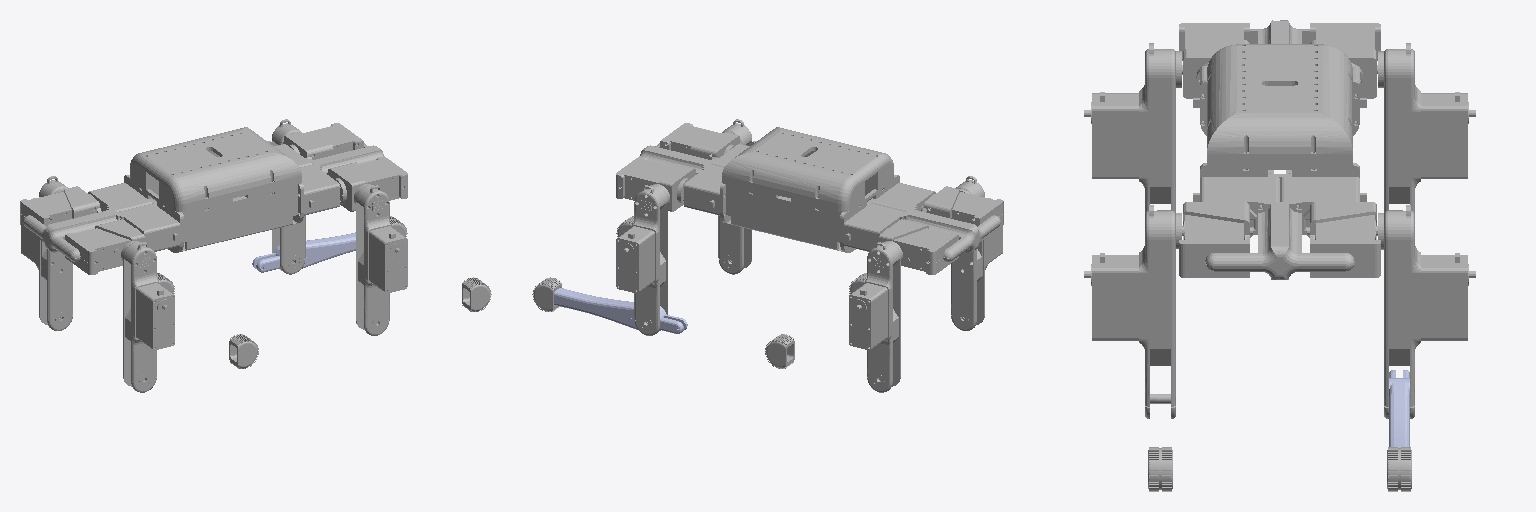
The robot description file, URDF, robot "ASEEL":
<?xml version="1.0" encoding="utf-8"?>
<robot
  name="ASEEL">
  <link
    name="base_link">
    <inertial>
      <origin
        xyz="0.000117800965739838 3.60395530274273E-09 0.00533195829127769"
        rpy="0 0 0" />
      <mass
        value="0.90458187696356" />
      <inertia
        ixx="0.000933635377152713"
        ixy="-2.59061192096811E-11"
        ixz="6.47739534078497E-06"
        iyy="0.00144500934952677"
        iyz="-5.95495047173037E-10"
        izz="0.00214373311610833" />
    </inertial>
    <visual>
      <origin
        xyz="0 0 0"
        rpy="0 0 0" />
      <geometry>
        <mesh
          filename="package://ASEEL/meshes/base_link.STL" />
      </geometry>
      <material
        name="">
        <color
          rgba="0.752941176470588 0.752941176470588 0.752941176470588 1" />
      </material>
    </visual>
    <collision>
      <origin
        xyz="0 0 0"
        rpy="0 0 0" />
      <geometry>
        <mesh
          filename="package://ASEEL/meshes/base_link.STL" />
      </geometry>
    </collision>
  </link>
  <link
    name="FR_shoulder">
    <inertial>
      <origin
        xyz="-0.000970287928558175 1.43784454992407E-06 -0.0177365778335415"
        rpy="0 0 0" />
      <mass
        value="0.126030436122441" />
      <inertia
        ixx="4.59863338380217E-05"
        ixy="7.84858176738146E-09"
        ixz="-1.13222032788304E-06"
        iyy="6.27279144073342E-05"
        iyz="3.40708639959301E-09"
        izz="3.90648826225906E-05" />
    </inertial>
    <visual>
      <origin
        xyz="0 0 0"
        rpy="0 0 0" />
      <geometry>
        <mesh
          filename="package://ASEEL/meshes/FR_shoulder.STL" />
      </geometry>
      <material
        name="">
        <color
          rgba="0.752941176470588 0.752941176470588 0.752941176470588 1" />
      </material>
    </visual>
    <collision>
      <origin
        xyz="0 0 0"
        rpy="0 0 0" />
      <geometry>
        <mesh
          filename="package://ASEEL/meshes/FR_shoulder.STL" />
      </geometry>
    </collision>
  </link>
  <joint
    name="FR_base_shoulder_joint"
    type="revolute">
    <origin
      xyz="0.1549 -0.0530000535776146 0"
      rpy="1.5707963267949 0 -1.5707963267949" />
    <parent
      link="base_link" />
    <child
      link="FR_shoulder" />
    <axis
      xyz="0 0 1" />
    <limit
      lower="-2.0944"
      upper="2.0944"
      effort="0"
      velocity="0" />
  </joint>
  <link
    name="FR_hip">
    <inertial>
      <origin
        xyz="0.00077187383719951 -0.0606076511327016 0.0155152005506251"
        rpy="0 0 0" />
      <mass
        value="0.182869560751865" />
      <inertia
        ixx="0.0002523448939588"
        ixy="-2.87807763554777E-06"
        ixz="-3.39518871085523E-08"
        iyy="3.83064999571908E-05"
        iyz="-1.48134860485744E-07"
        izz="0.000242515907395856" />
    </inertial>
    <visual>
      <origin
        xyz="0 0 0"
        rpy="0 0 0" />
      <geometry>
        <mesh
          filename="package://ASEEL/meshes/FR_hip.STL" />
      </geometry>
      <material
        name="">
        <color
          rgba="0.752941176470588 0.752941176470588 0.752941176470588 1" />
      </material>
    </visual>
    <collision>
      <origin
        xyz="0 0 0"
        rpy="0 0 0" />
      <geometry>
        <mesh
          filename="package://ASEEL/meshes/FR_hip.STL" />
      </geometry>
    </collision>
  </link>
  <joint
    name="FR_shoulder_hip_joint"
    type="revolute">
    <origin
      xyz="0.0439 0 0"
      rpy="0 1.5707963267949 0" />
    <parent
      link="FR_shoulder" />
    <child
      link="FR_hip" />
    <axis
      xyz="0 0 1" />
    <limit
      lower="-2.0944"
      upper="2.0944"
      effort="0"
      velocity="0" />
  </joint>
  <link
    name="FR_leg">
    <inertial>
      <origin
        xyz="1.43730509993834E-07 -0.0562168566562656 -3.97795066264806E-06"
        rpy="0 0 0" />
      <mass
        value="0.0582935395770901" />
      <inertia
        ixx="0.000152157231305915"
        ixy="-8.88216209861702E-10"
        ixz="-4.37278190964717E-11"
        iyy="4.04284990910996E-06"
        iyz="2.21081132430397E-08"
        izz="0.000153478811159089" />
    </inertial>
    <visual>
      <origin
        xyz="0 0 0"
        rpy="0 0 0" />
      <geometry>
        <mesh
          filename="package://ASEEL/meshes/FR_leg.STL" />
      </geometry>
      <material
        name="">
        <color
          rgba="0.792156862745098 0.819607843137255 0.933333333333333 1" />
      </material>
    </visual>
    <collision>
      <origin
        xyz="0 0 0"
        rpy="0 0 0" />
      <geometry>
        <mesh
          filename="package://ASEEL/meshes/FR_leg.STL" />
      </geometry>
    </collision>
  </link>
  <joint
    name="FR_hip_leg_joint"
    type="revolute">
    <origin
      xyz="0 -0.15 0"
      rpy="0 0 0" />
    <parent
      link="FR_hip" />
    <child
      link="FR_leg" />
    <axis
      xyz="0 0 1" />
    <limit
      lower="0.5236"
      upper="2.618"
      effort="0"
      velocity="0" />
  </joint>
  <link
    name="FR_toe">
    <inertial>
      <origin
        xyz="-0.000596190546970826 0.0120407485206023 3.84783939433309E-09"
        rpy="0 0 0" />
      <mass
        value="0.00928636527042137" />
      <inertia
        ixx="9.48247904111129E-07"
        ixy="3.28936864772133E-09"
        ixz="1.92578922406109E-11"
        iyy="1.56455944284968E-06"
        iyz="-3.1633142839233E-13"
        izz="1.66150195785123E-06" />
    </inertial>
    <visual>
      <origin
        xyz="0 0 0"
        rpy="0 0 0" />
      <geometry>
        <mesh
          filename="package://ASEEL/meshes/FR_toe.STL" />
      </geometry>
      <material
        name="">
        <color
          rgba="0.752941176470588 0.752941176470588 0.752941176470588 1" />
      </material>
    </visual>
    <collision>
      <origin
        xyz="0 0 0"
        rpy="0 0 0" />
      <geometry>
        <mesh
          filename="package://ASEEL/meshes/FR_toe.STL" />
      </geometry>
    </collision>
  </link>
  <joint
    name="FR_leg_toe_joint"
    type="fixed">
    <origin
      xyz="0 -0.15 0"
      rpy="0 0 0" />
    <parent
      link="FR_leg" />
    <child
      link="FR_toe" />
    <axis
      xyz="0 0 0" />
  </joint>
  <link
    name="BR_shoulder">
    <inertial>
      <origin
        xyz="-0.000970287928558189 -1.43784454991467E-06 0.0177365778335414"
        rpy="0 0 0" />
      <mass
        value="0.126030436122441" />
      <inertia
        ixx="4.59863338380217E-05"
        ixy="-7.84858176737931E-09"
        ixz="1.13222032788304E-06"
        iyy="6.27279144073342E-05"
        iyz="3.40708639959264E-09"
        izz="3.90648826225906E-05" />
    </inertial>
    <visual>
      <origin
        xyz="0 0 0"
        rpy="0 0 0" />
      <geometry>
        <mesh
          filename="package://ASEEL/meshes/BR_shoulder.STL" />
      </geometry>
      <material
        name="">
        <color
          rgba="0.752941176470588 0.752941176470588 0.752941176470588 1" />
      </material>
    </visual>
    <collision>
      <origin
        xyz="0 0 0"
        rpy="0 0 0" />
      <geometry>
        <mesh
          filename="package://ASEEL/meshes/BR_shoulder.STL" />
      </geometry>
    </collision>
  </link>
  <joint
    name="BR_base_shoulder_joint"
    type="revolute">
    <origin
      xyz="-0.1549 -0.053 0"
      rpy="1.5708 0 -1.5708" />
    <parent
      link="base_link" />
    <child
      link="BR_shoulder" />
    <axis
      xyz="0 0 -1" />
    <limit
      lower="-2.0944"
      upper="2.0944"
      effort="0"
      velocity="0" />
  </joint>
  <link
    name="BR_hip">
    <inertial>
      <origin
        xyz="0.000771873837199455 -0.0606076511327016 0.0155152005506251"
        rpy="0 0 0" />
      <mass
        value="0.182869560751866" />
      <inertia
        ixx="0.0002523448939588"
        ixy="-2.87807763554778E-06"
        ixz="-3.39518871085365E-08"
        iyy="3.83064999571909E-05"
        iyz="-1.4813486048576E-07"
        izz="0.000242515907395856" />
    </inertial>
    <visual>
      <origin
        xyz="0 0 0"
        rpy="0 0 0" />
      <geometry>
        <mesh
          filename="package://ASEEL/meshes/BR_hip.STL" />
      </geometry>
      <material
        name="">
        <color
          rgba="0.752941176470588 0.752941176470588 0.752941176470588 1" />
      </material>
    </visual>
    <collision>
      <origin
        xyz="0 0 0"
        rpy="0 0 0" />
      <geometry>
        <mesh
          filename="package://ASEEL/meshes/BR_hip.STL" />
      </geometry>
    </collision>
  </link>
  <joint
    name="BR_shoulder_hip_joint"
    type="revolute">
    <origin
      xyz="0.0439 0 0"
      rpy="0 1.5707963267949 0" />
    <parent
      link="BR_shoulder" />
    <child
      link="BR_hip" />
    <axis
      xyz="0 0 1" />
    <limit
      lower="-2.0944"
      upper="2.0944"
      effort="0"
      velocity="0" />
  </joint>
  <link
    name="BR_leg">
    <inertial>
      <origin
        xyz="1.43730509993834E-07 -0.0562168566562654 -3.97795066264806E-06"
        rpy="0 0 0" />
      <mass
        value="0.0582935395770903" />
      <inertia
        ixx="0.000152157231305894"
        ixy="-8.88216827581747E-10"
        ixz="-4.37278191180572E-11"
        iyy="4.04284990775868E-06"
        iyz="2.21081132430353E-08"
        izz="0.000153478811157716" />
    </inertial>
    <visual>
      <origin
        xyz="0 0 0"
        rpy="0 0 0" />
      <geometry>
        <mesh
          filename="package://ASEEL/meshes/BR_leg.STL" />
      </geometry>
      <material
        name="">
        <color
          rgba="0.792156862745098 0.819607843137255 0.933333333333333 1" />
      </material>
    </visual>
    <collision>
      <origin
        xyz="0 0 0"
        rpy="0 0 0" />
      <geometry>
        <mesh
          filename="package://ASEEL/meshes/BR_leg.STL" />
      </geometry>
    </collision>
  </link>
  <joint
    name="BR_hip_leg_joint"
    type="revolute">
    <origin
      xyz="0 -0.15 0"
      rpy="0 0 0" />
    <parent
      link="BR_hip" />
    <child
      link="BR_leg" />
    <axis
      xyz="0 0 1" />
    <limit
      lower="0.5236"
      upper="2.618"
      effort="0"
      velocity="0" />
  </joint>
  <link
    name="BR_toe">
    <inertial>
      <origin
        xyz="-0.0005961905469688 0.0120407485206022 3.84783943596645E-09"
        rpy="0 0 0" />
      <mass
        value="0.00928636527042151" />
      <inertia
        ixx="9.48247904111135E-07"
        ixy="3.2893686477132E-09"
        ixz="1.92578922435809E-11"
        iyy="1.56455944284962E-06"
        iyz="-3.16331431284772E-13"
        izz="1.66150195785117E-06" />
    </inertial>
    <visual>
      <origin
        xyz="0 0 0"
        rpy="0 0 0" />
      <geometry>
        <mesh
          filename="package://ASEEL/meshes/BR_toe.STL" />
      </geometry>
      <material
        name="">
        <color
          rgba="0.752941176470588 0.752941176470588 0.752941176470588 1" />
      </material>
    </visual>
    <collision>
      <origin
        xyz="0 0 0"
        rpy="0 0 0" />
      <geometry>
        <mesh
          filename="package://ASEEL/meshes/BR_toe.STL" />
      </geometry>
    </collision>
  </link>
  <joint
    name="BR_leg_toe"
    type="fixed">
    <origin
      xyz="0 -0.150000000000034 0"
      rpy="0 0 0" />
    <parent
      link="BR_leg" />
    <child
      link="BR_toe" />
    <axis
      xyz="0 0 0" />
  </joint>
  <link
    name="FL_shoulder">
    <inertial>
      <origin
        xyz="-0.000970287928558175 -1.43784454991988E-06 0.0177365778335414"
        rpy="0 0 0" />
      <mass
        value="0.126030436122441" />
      <inertia
        ixx="4.59863338380217E-05"
        ixy="-7.84858176737605E-09"
        ixz="1.13222032788304E-06"
        iyy="6.27279144073342E-05"
        iyz="3.40708639959327E-09"
        izz="3.90648826225906E-05" />
    </inertial>
    <visual>
      <origin
        xyz="0 0 0"
        rpy="0 0 0" />
      <geometry>
        <mesh
          filename="package://ASEEL/meshes/FL_shoulder.STL" />
      </geometry>
      <material
        name="">
        <color
          rgba="0.752941176470588 0.752941176470588 0.752941176470588 1" />
      </material>
    </visual>
    <collision>
      <origin
        xyz="0 0 0"
        rpy="0 0 0" />
      <geometry>
        <mesh
          filename="package://ASEEL/meshes/FL_shoulder.STL" />
      </geometry>
    </collision>
  </link>
  <joint
    name="FL_base_shoulder_joint"
    type="revolute">
    <origin
      xyz="0.1549 0.053 0"
      rpy="1.5708 0 1.5708" />
    <parent
      link="base_link" />
    <child
      link="FL_shoulder" />
    <axis
      xyz="0 0 1" />
    <limit
      lower="-2.0944"
      upper="2.0944"
      effort="0"
      velocity="0" />
  </joint>
  <link
    name="FL_hip">
    <inertial>
      <origin
        xyz="-0.000769768516371561 -0.0606084345817354 0.0155158302503211"
        rpy="0 0 0" />
      <mass
        value="0.182862361189565" />
      <inertia
        ixx="0.000252344247771645"
        ixy="2.87315613778536E-06"
        ixz="4.09648863235255E-08"
        iyy="3.83073180128586E-05"
        iyz="-1.4816800661719E-07"
        izz="0.000242516393871208" />
    </inertial>
    <visual>
      <origin
        xyz="0 0 0"
        rpy="0 0 0" />
      <geometry>
        <mesh
          filename="package://ASEEL/meshes/FL_hip.STL" />
      </geometry>
      <material
        name="">
        <color
          rgba="0.752941176470588 0.752941176470588 0.752941176470588 1" />
      </material>
    </visual>
    <collision>
      <origin
        xyz="0 0 0"
        rpy="0 0 0" />
      <geometry>
        <mesh
          filename="package://ASEEL/meshes/FL_hip.STL" />
      </geometry>
    </collision>
  </link>
  <joint
    name="FL_shoulder_hip_joint"
    type="revolute">
    <origin
      xyz="0.0439 0 0"
      rpy="0 1.5707963267949 0" />
    <parent
      link="FL_shoulder" />
    <child
      link="FL_hip" />
    <axis
      xyz="0 0 1" />
    <limit
      lower="-2.0944"
      upper="2.0944"
      effort="0"
      velocity="0" />
  </joint>
  <link
    name="FL_leg">
    <inertial>
      <origin
        xyz="1.43730509938322E-07 -0.0562168566562656 -3.97795066263418E-06"
        rpy="0 0 0" />
      <mass
        value="0.0582935395770901" />
      <inertia
        ixx="0.000152157231305841"
        ixy="-8.88216415399482E-10"
        ixz="-4.37278191441204E-11"
        iyy="4.04284990940124E-06"
        iyz="2.21081132429994E-08"
        izz="0.000153478811159306" />
    </inertial>
    <visual>
      <origin
        xyz="0 0 0"
        rpy="0 0 0" />
      <geometry>
        <mesh
          filename="package://ASEEL/meshes/FL_leg.STL" />
      </geometry>
      <material
        name="">
        <color
          rgba="0.792156862745098 0.819607843137255 0.933333333333333 1" />
      </material>
    </visual>
    <collision>
      <origin
        xyz="0 0 0"
        rpy="0 0 0" />
      <geometry>
        <mesh
          filename="package://ASEEL/meshes/FL_leg.STL" />
      </geometry>
    </collision>
  </link>
  <joint
    name="FL_hip_leg_joint"
    type="revolute">
    <origin
      xyz="0 -0.15 0"
      rpy="3.14159265358979 0 3.14159265358979" />
    <parent
      link="FL_hip" />
    <child
      link="FL_leg" />
    <axis
      xyz="0 0 1" />
    <limit
      lower="0.5236"
      upper="2.618"
      effort="0"
      velocity="0" />
  </joint>
  <link
    name="FL_toe">
    <inertial>
      <origin
        xyz="-0.000596190546969383 0.0120407485206024 3.84783942208866E-09"
        rpy="0 0 0" />
      <mass
        value="0.00928636527042142" />
      <inertia
        ixx="9.48247904111061E-07"
        ixy="3.28936864632139E-09"
        ixz="1.92578922390329E-11"
        iyy="1.56455944284956E-06"
        iyz="-3.16331429548457E-13"
        izz="1.66150195785103E-06" />
    </inertial>
    <visual>
      <origin
        xyz="0 0 0"
        rpy="0 0 0" />
      <geometry>
        <mesh
          filename="package://ASEEL/meshes/FL_toe.STL" />
      </geometry>
      <material
        name="">
        <color
          rgba="0.752941176470588 0.752941176470588 0.752941176470588 1" />
      </material>
    </visual>
    <collision>
      <origin
        xyz="0 0 0"
        rpy="0 0 0" />
      <geometry>
        <mesh
          filename="package://ASEEL/meshes/FL_toe.STL" />
      </geometry>
    </collision>
  </link>
  <joint
    name="FL_leg_toe_joint"
    type="fixed">
    <origin
      xyz="0 -0.149999999999966 0"
      rpy="0 0 0" />
    <parent
      link="FL_leg" />
    <child
      link="FL_toe" />
    <axis
      xyz="0 0 0" />
  </joint>
  <link
    name="BL_shoulder">
    <inertial>
      <origin
        xyz="-0.000970287928558182 1.43784454991182E-06 -0.0177365778335414"
        rpy="0 0 0" />
      <mass
        value="0.126030436122441" />
      <inertia
        ixx="4.59863338380217E-05"
        ixy="7.84858176738043E-09"
        ixz="-1.13222032788304E-06"
        iyy="6.27279144073342E-05"
        iyz="3.40708639959423E-09"
        izz="3.90648826225906E-05" />
    </inertial>
    <visual>
      <origin
        xyz="0 0 0"
        rpy="0 0 0" />
      <geometry>
        <mesh
          filename="package://ASEEL/meshes/BL_shoulder.STL" />
      </geometry>
      <material
        name="">
        <color
          rgba="0.752941176470588 0.752941176470588 0.752941176470588 1" />
      </material>
    </visual>
    <collision>
      <origin
        xyz="0 0 0"
        rpy="0 0 0" />
      <geometry>
        <mesh
          filename="package://ASEEL/meshes/BL_shoulder.STL" />
      </geometry>
    </collision>
  </link>
  <joint
    name="BL_base_shoulder_joint"
    type="revolute">
    <origin
      xyz="-0.1549 0.0530000535776146 0"
      rpy="1.5707963267949 0 1.5707963267949" />
    <parent
      link="base_link" />
    <child
      link="BL_shoulder" />
    <axis
      xyz="0 0 -1" />
    <limit
      lower="-2.0944"
      upper="2.0944"
      effort="0"
      velocity="0" />
  </joint>
  <link
    name="BL_hip">
    <inertial>
      <origin
        xyz="-0.000769768516371588 -0.0606084345817354 0.0155158302503211"
        rpy="0 0 0" />
      <mass
        value="0.182862361189565" />
      <inertia
        ixx="0.000252344247771645"
        ixy="2.87315613778526E-06"
        ixz="4.09648863235187E-08"
        iyy="3.83073180128585E-05"
        iyz="-1.48168006617098E-07"
        izz="0.000242516393871207" />
    </inertial>
    <visual>
      <origin
        xyz="0 0 0"
        rpy="0 0 0" />
      <geometry>
        <mesh
          filename="package://ASEEL/meshes/BL_hip.STL" />
      </geometry>
      <material
        name="">
        <color
          rgba="0.752941176470588 0.752941176470588 0.752941176470588 1" />
      </material>
    </visual>
    <collision>
      <origin
        xyz="0 0 0"
        rpy="0 0 0" />
      <geometry>
        <mesh
          filename="package://ASEEL/meshes/BL_hip.STL" />
      </geometry>
    </collision>
  </link>
  <joint
    name="BL_shoulder_hip_joint"
    type="revolute">
    <origin
      xyz="0.0439 0 0"
      rpy="0 1.5707963267949 0" />
    <parent
      link="BL_shoulder" />
    <child
      link="BL_hip" />
    <axis
      xyz="0 0 1" />
    <limit
      lower="-2.0944"
      upper="2.0944"
      effort="0"
      velocity="0" />
  </joint>
  <link
    name="BL_leg">
    <inertial>
      <origin
        xyz="1.43730510104856E-07 -0.0562168566562657 -3.97795066264806E-06"
        rpy="0 0 0" />
      <mass
        value="0.05829353957709" />
      <inertia
        ixx="0.000152157231305869"
        ixy="-8.88215150243676E-10"
        ixz="-4.37278191082278E-11"
        iyy="4.04284990642428E-06"
        iyz="2.21081132430399E-08"
        izz="0.000153478811156357" />
    </inertial>
    <visual>
      <origin
        xyz="0 0 0"
        rpy="0 0 0" />
      <geometry>
        <mesh
          filename="package://ASEEL/meshes/BL_leg.STL" />
      </geometry>
      <material
        name="">
        <color
          rgba="0.792156862745098 0.819607843137255 0.933333333333333 1" />
      </material>
    </visual>
    <collision>
      <origin
        xyz="0 0 0"
        rpy="0 0 0" />
      <geometry>
        <mesh
          filename="package://ASEEL/meshes/BL_leg.STL" />
      </geometry>
    </collision>
  </link>
  <joint
    name="BL_hip_leg_joint"
    type="revolute">
    <origin
      xyz="0 -0.15 0"
      rpy="3.14159265358979 0 3.14159265358979" />
    <parent
      link="BL_hip" />
    <child
      link="BL_leg" />
    <axis
      xyz="0 0 1" />
    <limit
      lower="0.5236"
      upper="2.618"
      effort="0"
      velocity="0" />
  </joint>
  <link
    name="BL_toe">
    <inertial>
      <origin
        xyz="-0.000596190546968411 0.0120407485206018 3.84783944984424E-09"
        rpy="0 0 0" />
      <mass
        value="0.0092863652704216" />
      <inertia
        ixx="9.48247904111144E-07"
        ixy="3.28936864772406E-09"
        ixz="1.92578922441166E-11"
        iyy="1.56455944284961E-06"
        iyz="-3.16331434958039E-13"
        izz="1.66150195785116E-06" />
    </inertial>
    <visual>
      <origin
        xyz="0 0 0"
        rpy="0 0 0" />
      <geometry>
        <mesh
          filename="package://ASEEL/meshes/BL_toe.STL" />
      </geometry>
      <material
        name="">
        <color
          rgba="0.752941176470588 0.752941176470588 0.752941176470588 1" />
      </material>
    </visual>
    <collision>
      <origin
        xyz="0 0 0"
        rpy="0 0 0" />
      <geometry>
        <mesh
          filename="package://ASEEL/meshes/BL_toe.STL" />
      </geometry>
    </collision>
  </link>
  <joint
    name="BL_leg_toe_joint"
    type="fixed">
    <origin
      xyz="0 -0.150000000000033 0"
      rpy="0 0 0" />
    <parent
      link="BL_leg" />
    <child
      link="BL_toe" />
    <axis
      xyz="0 0 0" />
  </joint>
</robot>

--- Render facts (derived) ---
The picture shows the robot from 3 angles, left to right: view 1: azimuth 30°, elevation 25°; view 2: azimuth 150°, elevation 25°; view 3: azimuth 270°, elevation 25°; orthographic projection.
Robot: ASEEL — 17 links, 16 joints (12 revolute, 4 fixed); root link base_link; default pose: all joints at 0 but 4 set to mid-range because 0 is outside their limits (FR_hip_leg_joint = 1.57, BR_hip_leg_joint = 1.57, FL_hip_leg_joint = 1.57, BL_hip_leg_joint = 1.57).
Links seen in each view (by area): view 1: base_link, BR_hip, FR_hip, BL_hip, BR_shoulder, FR_shoulder, BL_shoulder, FL_shoulder, FL_hip, FL_leg, BR_toe, FR_toe; view 2: base_link, BL_hip, FL_hip, BR_hip, BL_shoulder, FL_shoulder, FL_leg, BR_shoulder, FR_hip, FR_shoulder, BL_toe, FL_toe; view 3: base_link, FR_hip, FL_hip, BR_hip, BL_hip, FR_shoulder, FL_shoulder, BR_shoulder, BL_shoulder, FL_leg, FR_toe, FL_toe.
Boxes of the visible links, bbox=[...] form: base_link: bbox=[23, 127, 383, 261]; BR_hip: bbox=[121, 241, 174, 392]; FR_hip: bbox=[354, 184, 407, 335]; BL_hip: bbox=[21, 176, 72, 330]; BR_shoulder: bbox=[65, 219, 144, 274]; FR_shoulder: bbox=[327, 156, 407, 211]; BL_shoulder: bbox=[20, 186, 101, 241]; FL_shoulder: bbox=[284, 123, 363, 159]; FL_hip: bbox=[267, 119, 305, 274]; FL_leg: bbox=[252, 232, 355, 272]; BR_toe: bbox=[229, 334, 258, 368]; FR_toe: bbox=[462, 277, 491, 311]; base_link: bbox=[640, 127, 1000, 261]; BL_hip: bbox=[849, 241, 902, 392]; FL_hip: bbox=[616, 184, 669, 335]; BR_hip: bbox=[951, 176, 1002, 330]; BL_shoulder: bbox=[879, 219, 958, 274]; FL_shoulder: bbox=[616, 156, 696, 211]; FL_leg: bbox=[554, 288, 687, 333]; BR_shoulder: bbox=[922, 186, 1003, 241]; FR_hip: bbox=[718, 119, 756, 274]; FR_shoulder: bbox=[660, 123, 739, 159]; BL_toe: bbox=[765, 334, 794, 368]; FL_toe: bbox=[532, 277, 561, 311]; base_link: bbox=[1193, 20, 1366, 279]; FR_hip: bbox=[1084, 205, 1181, 418]; FL_hip: bbox=[1378, 205, 1475, 418]; BR_hip: bbox=[1084, 43, 1181, 212]; BL_hip: bbox=[1378, 43, 1475, 212]; FR_shoulder: bbox=[1179, 202, 1256, 277]; FL_shoulder: bbox=[1303, 202, 1380, 277]; BR_shoulder: bbox=[1179, 23, 1249, 98]; BL_shoulder: bbox=[1310, 23, 1380, 98]; FL_leg: bbox=[1389, 370, 1409, 447]; FR_toe: bbox=[1148, 447, 1172, 491]; FL_toe: bbox=[1387, 447, 1411, 491].
Bounding box of the posed robot: 0.5308 × 0.3182 × 0.2283 m (x, y, z).
Meshes: 17 distinct files referenced, 14 mesh visuals loaded (14 binary STL); not drawn: 3 (reference not matched to a file when rendering).